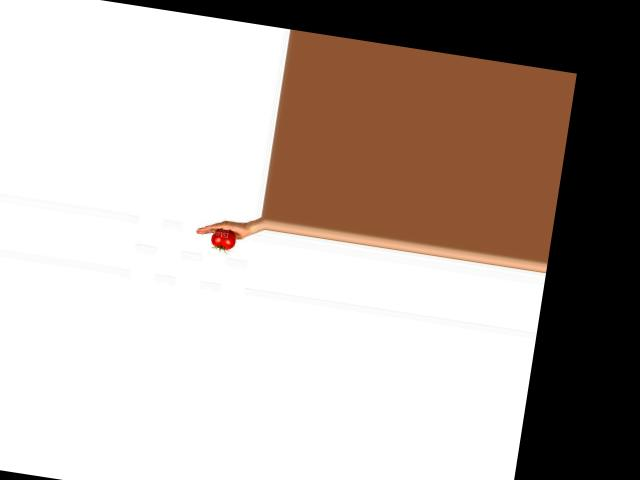tomato: (210, 227, 236, 250)
